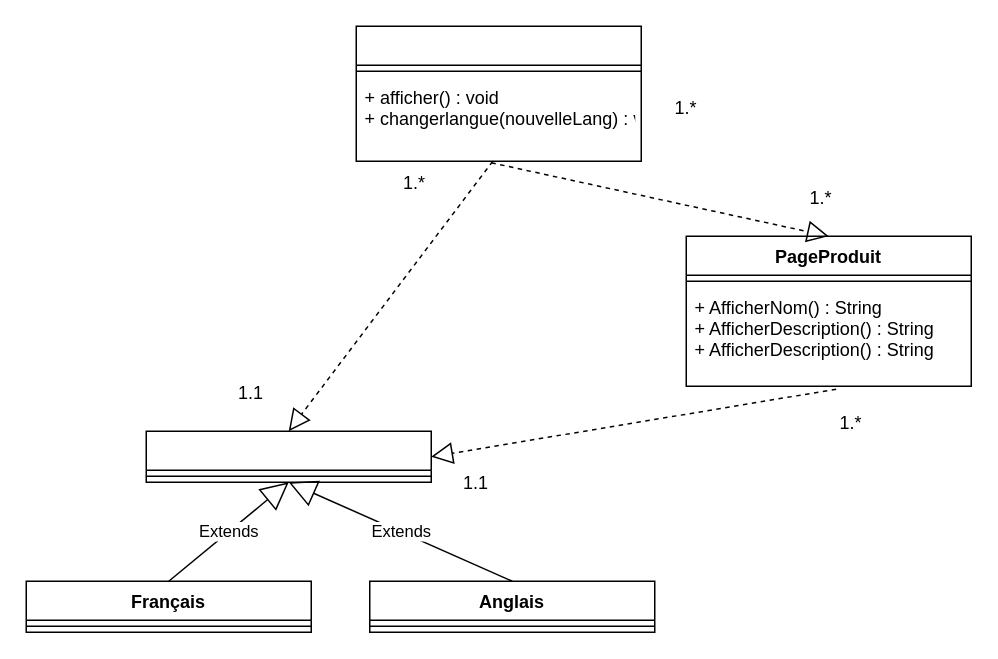
Image size: 998x659. Some labels were removed from this diagram. The box of each missing label's shape, as (x1, y1, x2, y2) in pixels:
Client: (355, 25, 641, 161)
Langue: (145, 430, 431, 482)
